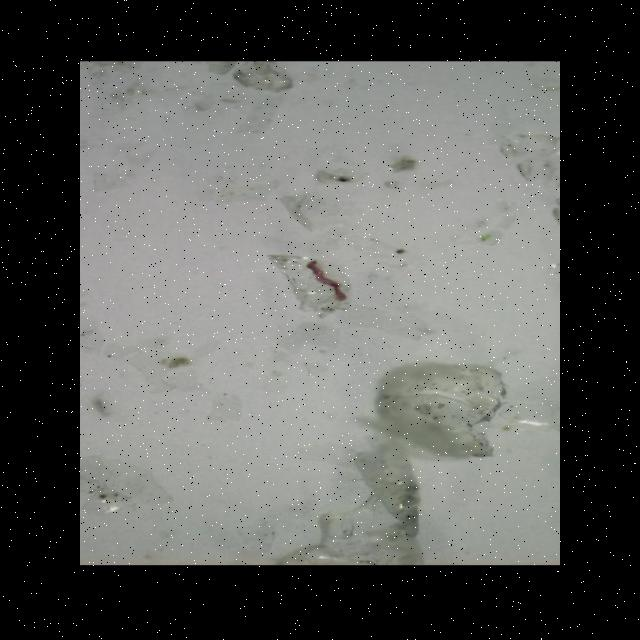Fibre: (298, 255, 354, 302)
